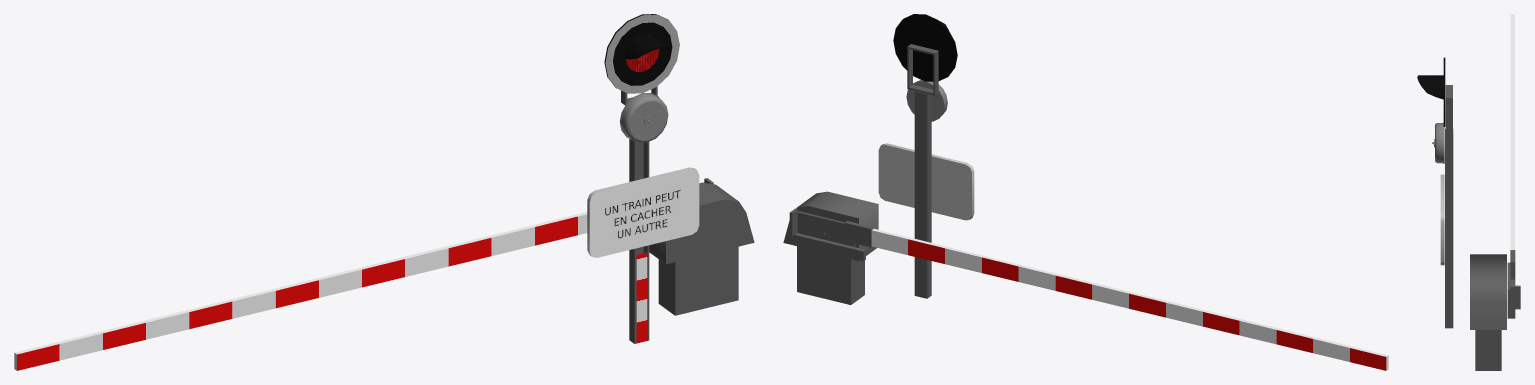
File: passage-a-niveau.obj
3 views of the same model, side by side, from view 1: azimuth 30°, elevation 25°; view 2: azimuth 150°, elevation 25°; view 3: azimuth 270°, elevation 25° (orthographic). The views are drawn at different scales.
Parts seen in each view (by area): view 1: sweethome3d_opening_on_hinge_1_barrier_Cube, base_Cylinder, Cube.007, Cylinder.001, poteau_Cube.004, cloche_Cube.002, Cube.003; view 2: sweethome3d_opening_on_hinge_1_barrier_Cube, base_Cylinder, Cube.001, poteau_Cube.004, Cylinder.001, sweethome3d_opening_on_hinge_1_barrierBase, soutien_Cube.005, cloche_Cube.002; view 3: base_Cylinder, poteau_Cube.004, sweethome3d_opening_on_hinge_1_barrier_Cube, sweethome3d_opening_on_hinge_1_barrierBase, Cylinder.001, Cube.001, soutien_Cube.005, cloche_Cube.002.
Boxes of the visible parts, x1,y1,x2,y2 form: sweethome3d_opening_on_hinge_1_barrier_Cube: (14,211,587,370); base_Cylinder: (649,182,754,315); Cube.007: (589,169,699,257); Cylinder.001: (604,14,679,93); poteau_Cube.004: (629,139,649,343); cloche_Cube.002: (620,93,668,142); Cube.003: (636,252,647,343); sweethome3d_opening_on_hinge_1_barrier_Cube: (871,228,1388,370); base_Cylinder: (783,191,878,304); Cube.001: (878,143,974,220); poteau_Cube.004: (914,91,931,298); Cylinder.001: (893,14,957,81); sweethome3d_opening_on_hinge_1_barrierBase: (789,208,873,261); soutien_Cube.005: (907,44,938,95); cloche_Cube.002: (906,80,947,121); base_Cylinder: (1470,254,1506,370); poteau_Cube.004: (1445,128,1453,328); sweethome3d_opening_on_hinge_1_barrier_Cube: (1510,14,1514,249); sweethome3d_opening_on_hinge_1_barrierBase: (1507,250,1520,318); Cylinder.001: (1417,57,1445,126); Cube.001: (1440,174,1444,265); soutien_Cube.005: (1445,85,1452,137); cloche_Cube.002: (1432,122,1444,163).
Size of the model in its own units: 597 by 262 by 92.78.
